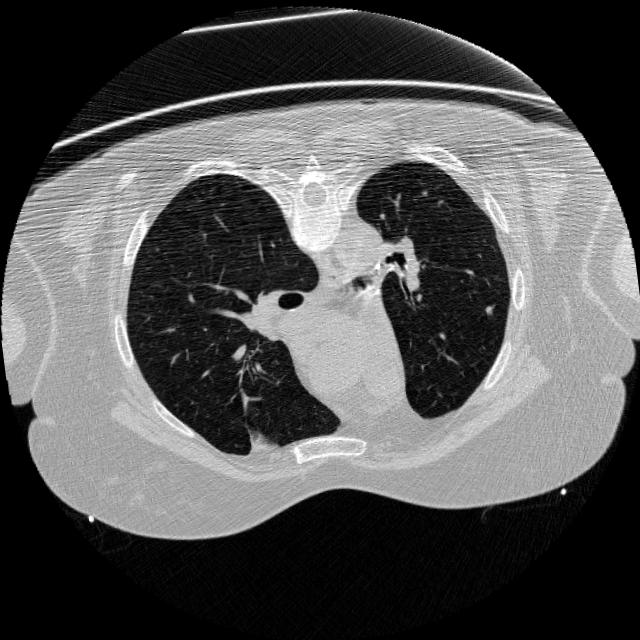nodule: (475, 300, 497, 322)
